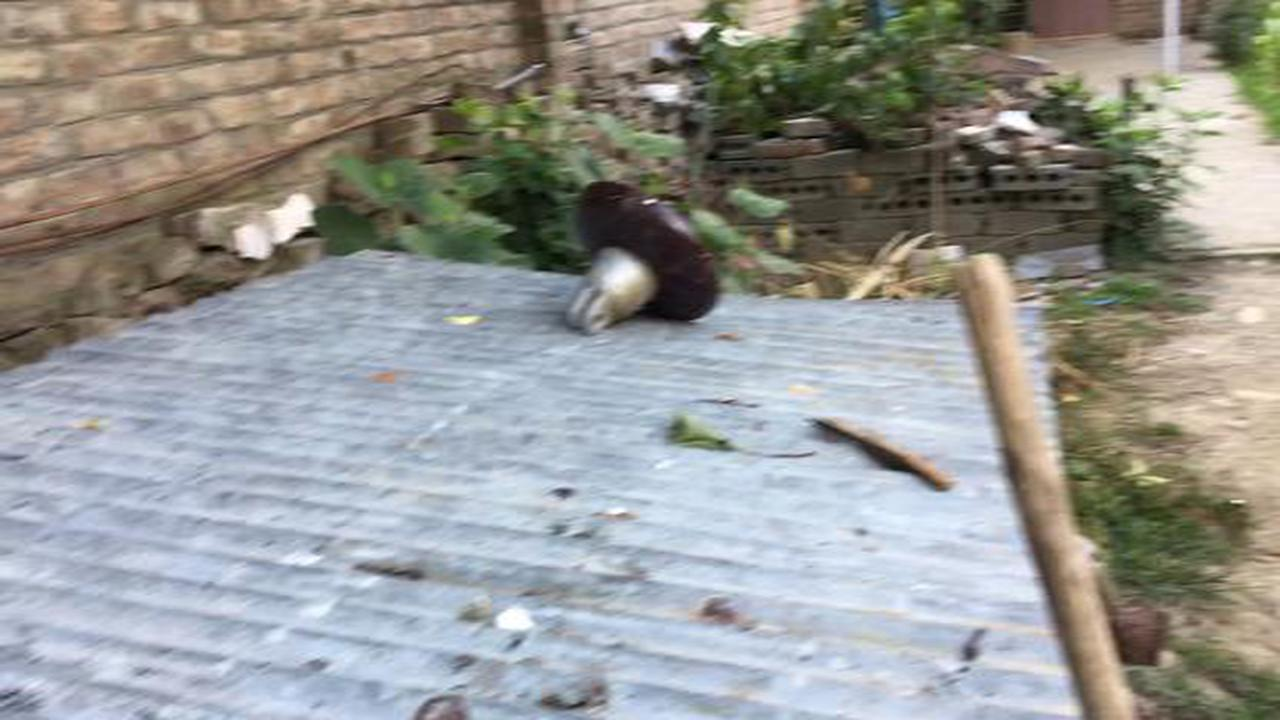insulator_disc: (554, 174, 733, 347)
